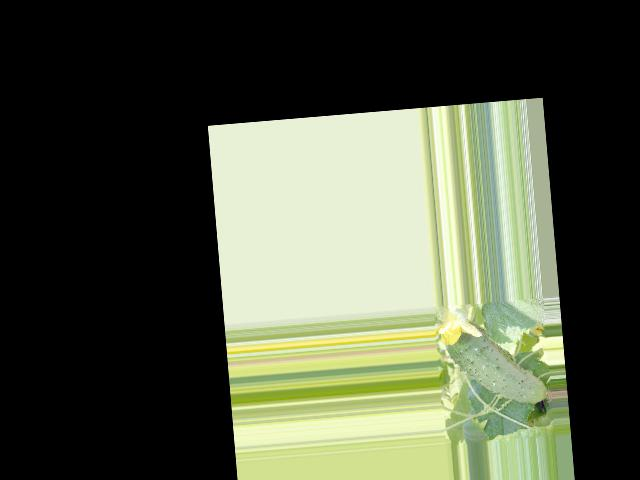cucumber: (443, 315, 552, 411)
